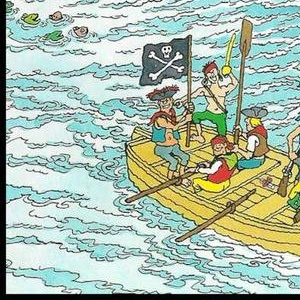Charlie: (102, 125, 128, 197)
